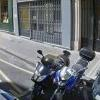Motorcycle: (28, 44, 97, 100)
